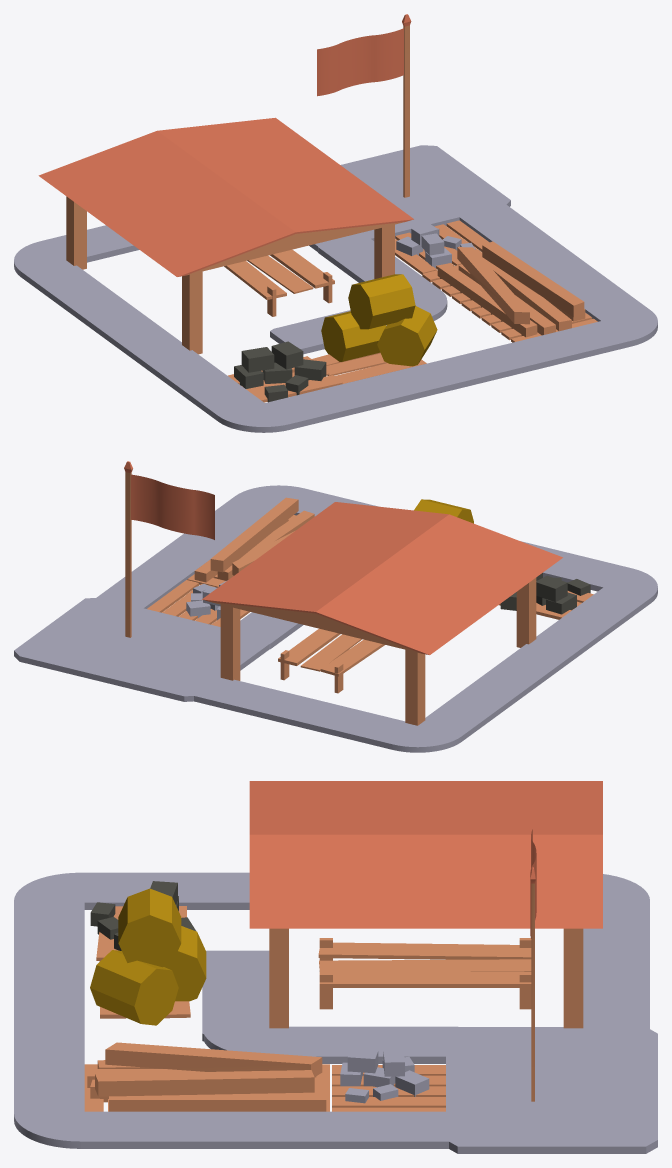
File: Place.fbx
3 renders of one model, top to bottom at view 1: azimuth 30°, elevation 25°; view 2: azimuth 150°, elevation 25°; view 3: azimuth 270°, elevation 25°, orthographic. The views are drawn at different scales.
Visible parts, largest first — view 1: roof_straight_402, floor_square_372, debris_wood_409, detail_flagSquare%_417, structure_poles_401, debris_bricks_410, floor_square_381, floor_square_380, planks_floorHalf_415, floor_square_382, floor_square_383, floor_square_392 (+22 smaller); view 2: roof_straight_402, floor_square_372, detail_flagSquare%_417, structure_poles_401, debris_wood_409, floor_square_373, planks_floorHalf_415, floor_square_374, floor_square_390, floor_square_389, floor_square_392, floor_square_391 (+15 smaller); view 3: roof_straight_402, floor_square_372, debris_wood_409, planks_floorHalf_415, floor_square_385, floor_square_386, floor_square_387, cylinder_vertex_413, floor_square_380, structure_poles_401, cylinder_vertex_414, floor_square_382 (+21 smaller).
Boxes of the visible parts, x1,y1,x2,y2 form: roof_straight_402: [38, 117, 413, 276]; floor_square_372: [309, 145, 510, 251]; debris_wood_409: [437, 241, 585, 337]; detail_flagSquare%_417: [317, 14, 411, 197]; structure_poles_401: [66, 196, 394, 354]; debris_bricks_410: [234, 341, 326, 402]; floor_square_381: [346, 362, 464, 408]; floor_square_380: [259, 383, 378, 429]; planks_floorHalf_415: [224, 249, 334, 299]; floor_square_382: [434, 341, 549, 387]; floor_square_383: [519, 320, 635, 367]; floor_square_392: [168, 366, 266, 421]; roof_straight_402: [202, 502, 562, 654]; floor_square_372: [14, 597, 269, 701]; detail_flagSquare%_417: [124, 461, 214, 637]; structure_poles_401: [220, 578, 536, 725]; debris_wood_409: [194, 497, 314, 582]; floor_square_373: [307, 704, 421, 749]; planks_floorHalf_415: [278, 628, 385, 676]; floor_square_374: [227, 684, 339, 729]; floor_square_390: [462, 656, 556, 706]; floor_square_389: [415, 690, 508, 741]; floor_square_392: [557, 586, 651, 637]; floor_square_391: [509, 621, 603, 672]; roof_straight_402: [249, 781, 602, 928]; floor_square_372: [446, 1027, 657, 1153]; debris_wood_409: [87, 1042, 326, 1111]; planks_floorHalf_415: [318, 942, 531, 987]; floor_square_385: [73, 1111, 214, 1148]; floor_square_386: [198, 1111, 339, 1148]; floor_square_387: [324, 1111, 465, 1148]; cylinder_vertex_413: [90, 950, 178, 1025]; floor_square_380: [14, 897, 84, 957]; structure_poles_401: [269, 928, 583, 1028]; cylinder_vertex_414: [118, 888, 181, 967]; floor_square_382: [14, 1007, 84, 1063].
Size of the model in its own units: 51.56 by 21.5 by 51.25.
